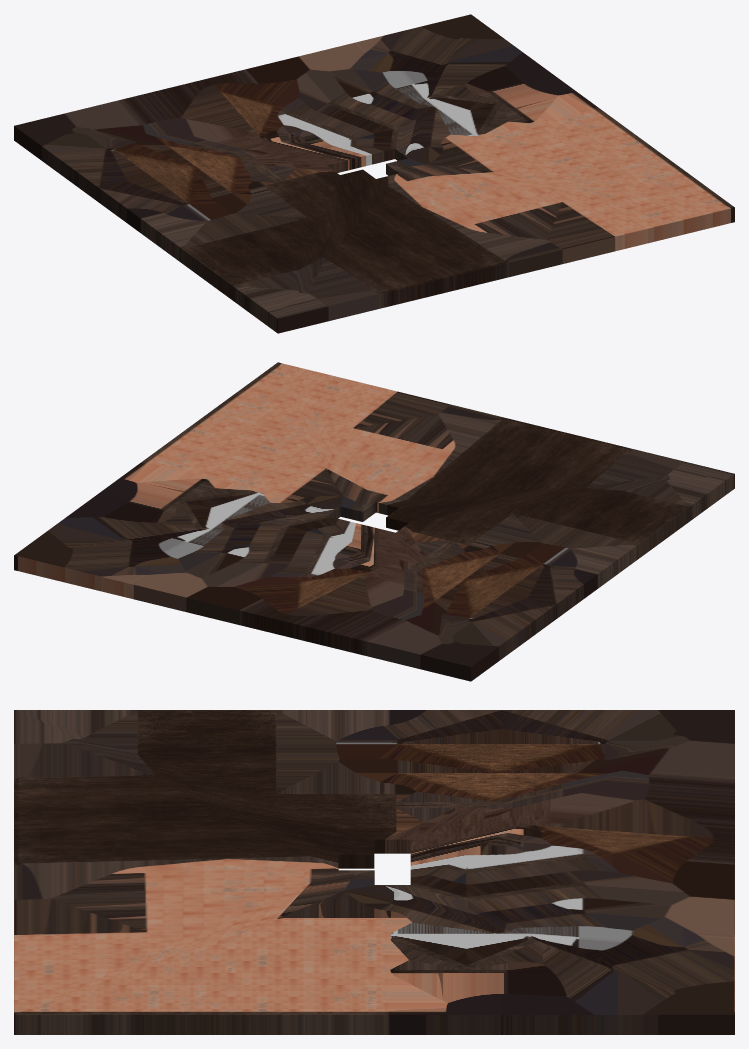
Rendered from Zem.fbx.
The picture shows the model from 3 angles, top to bottom: view 1: azimuth 30°, elevation 25°; view 2: azimuth 150°, elevation 25°; view 3: azimuth 270°, elevation 25°; orthographic projection. The views are drawn at different scales.
Parts seen in each view (by area): view 1: Plane.002; view 2: Plane.002; view 3: Plane.002.
Boxes of the visible parts, x1=… form: Plane.002: x1=14, y1=14, x2=734, y2=333; Plane.002: x1=14, y1=362, x2=734, y2=681; Plane.002: x1=14, y1=710, x2=734, y2=1034.
Size of the model in its own units: 7921 by 242 by 7921.
